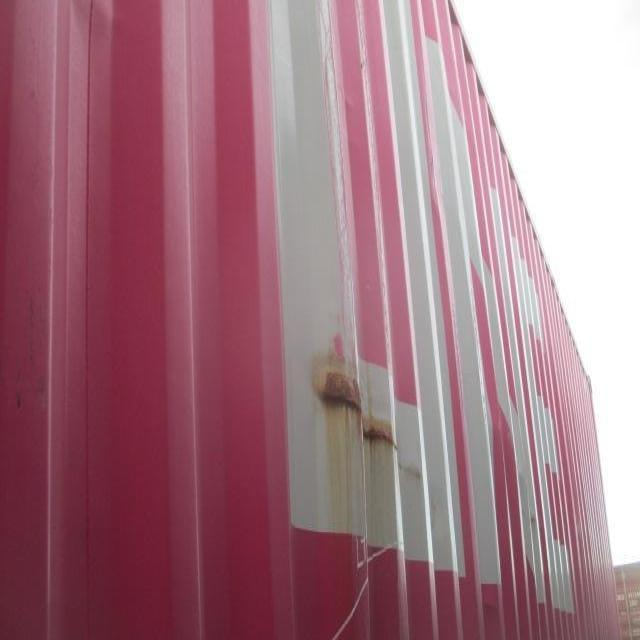dent: (186, 207, 439, 579)
